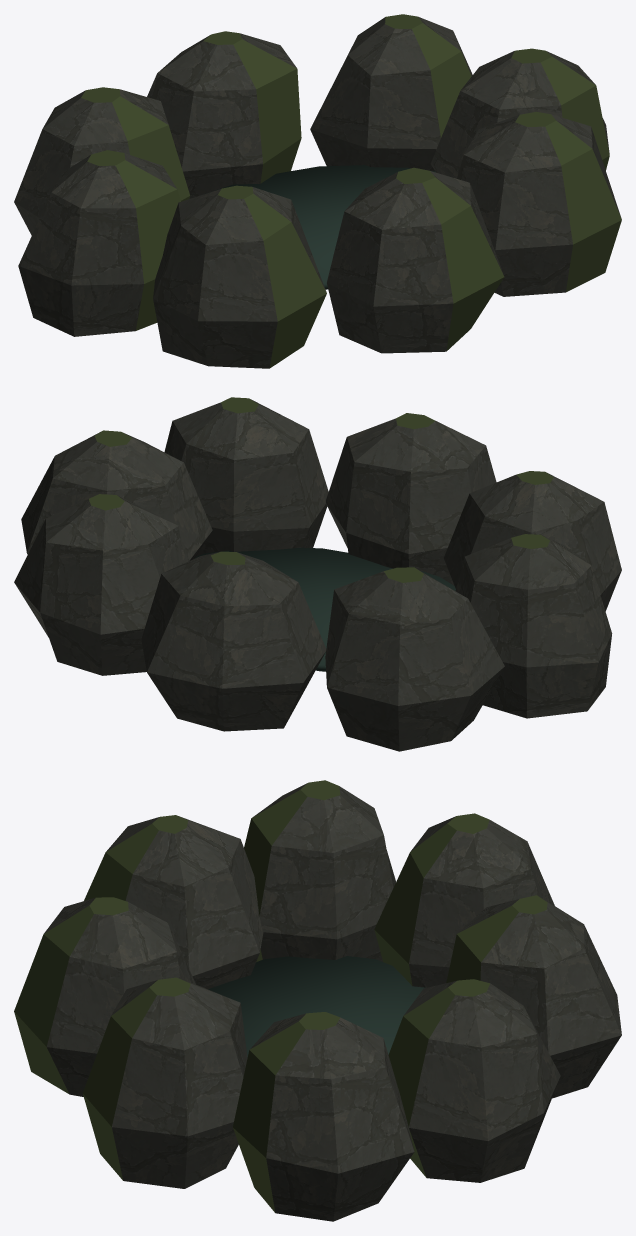
3 views of the same model, one above another, from view 1: azimuth 30°, elevation 25°; view 2: azimuth 150°, elevation 25°; view 3: azimuth 270°, elevation 25° (orthographic). The views are drawn at different scales.
Parts seen in each view (by area): view 1: Weathered faceted boulder; view 2: Weathered faceted boulder; view 3: Weathered faceted boulder.
Part boxes in pixels (x1=…): Weathered faceted boulder: x1=14, y1=14, x2=621, y2=368; Weathered faceted boulder: x1=14, y1=397, x2=621, y2=751; Weathered faceted boulder: x1=14, y1=780, x2=621, y2=1221.
Size of the model in its own units: 3.59 by 0.875 by 2.88.
3 materials, 1 textured.
